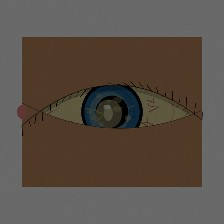corneal_ulcer: (86, 95, 132, 132)
